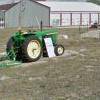Tractor: (3, 16, 68, 67)
